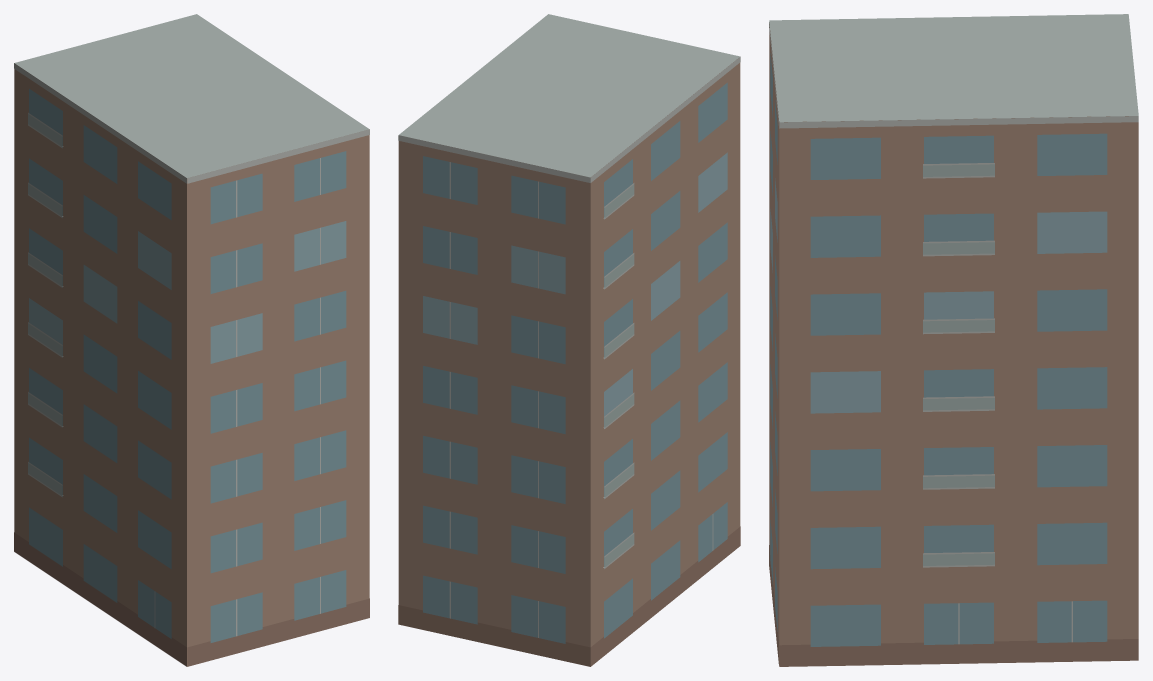
Rendered from survey-upis-32733506.glb.
3 views of the same model, side by side, from view 1: azimuth 30°, elevation 25°; view 2: azimuth 150°, elevation 25°; view 3: azimuth 270°, elevation 25° (orthographic). The views are drawn at different scales.
Visible parts, largest first — view 1: survey-upis-32733506.tmp; view 2: survey-upis-32733506.tmp; view 3: survey-upis-32733506.tmp.
Boxes of the visible parts, <box> form: survey-upis-32733506.tmp: <box>14,14,369,666</box>; survey-upis-32733506.tmp: <box>398,14,740,666</box>; survey-upis-32733506.tmp: <box>769,14,1138,666</box>.
Bounding box in the file's own units: 9 × 21.1 × 12.99.
